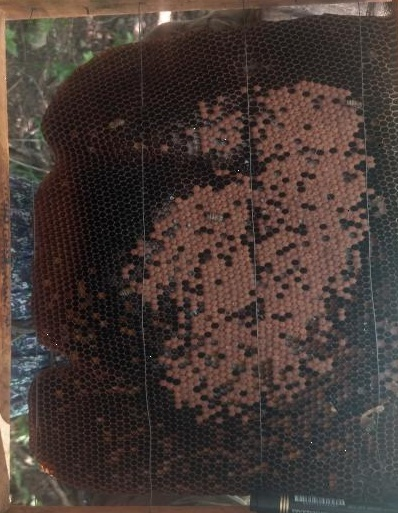cria: (105, 75, 376, 422)
